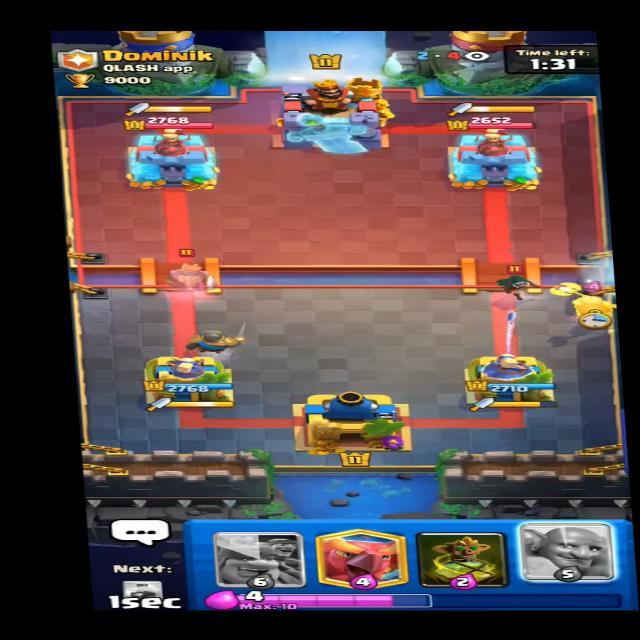Bandit: (489, 264, 538, 295)
Royalghost: (158, 254, 222, 294)
